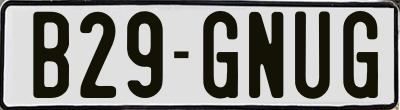2: (80, 10, 116, 99)
9: (127, 8, 167, 97)
B: (31, 11, 71, 101)
G: (343, 10, 381, 102), (202, 9, 241, 98)
N: (246, 10, 281, 100)
U: (292, 11, 331, 100)
